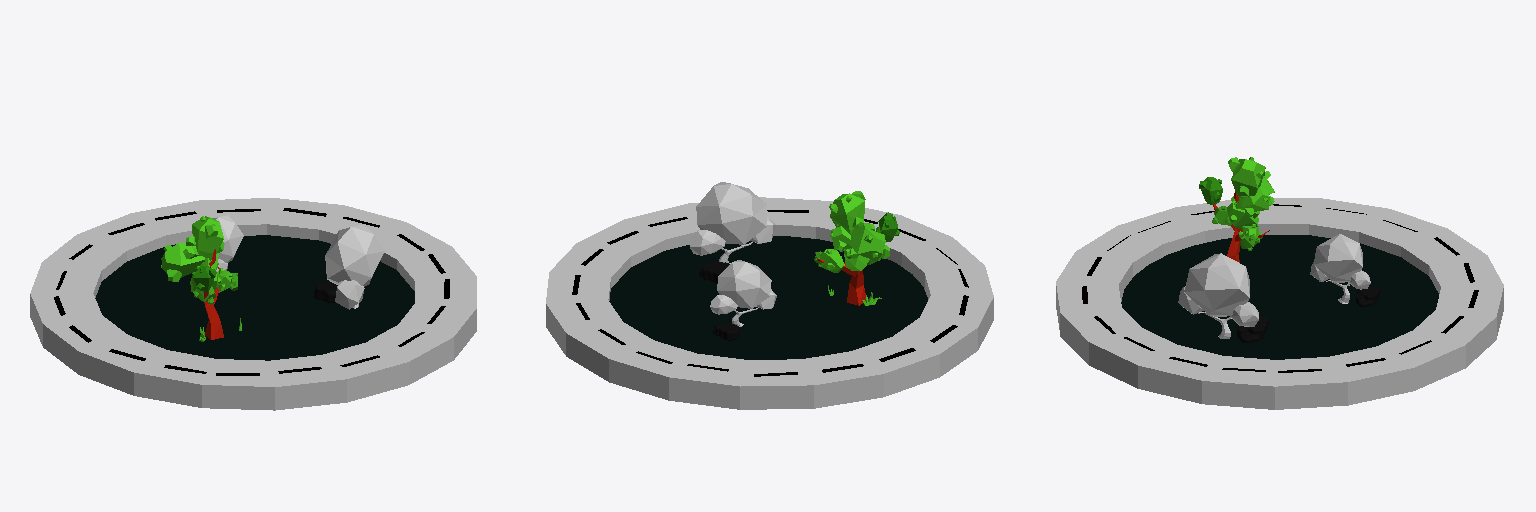
The model's file is final_track.obj.
The picture shows the model from 3 angles: view 1: azimuth 30°, elevation 25°; view 2: azimuth 150°, elevation 25°; view 3: azimuth 270°, elevation 25°; orthographic projection.
Visible parts, largest first — view 1: Cube.001_Cube.004, Cylinder, yaprak1.001_Icosphere.003, BranchesCBranchesuBranchesbBrancheseBranches.Branches0Branc.005_, BranchesCBranchesuBranchesbBrancheseBranches.Branches0Branc.004_, yaprak1_Icosphere.002, yaprak3.001_Icosphere.005, Trunk_Plane.001; view 2: Cube.001_Cube.004, Cylinder, yaprak1.001_Icosphere.003, yaprak1_Icosphere.002, BranchesCBranchesuBranchesbBrancheseBranches.Branches0Branc.004_, BranchesCBranchesuBranchesbBrancheseBranches.Branches0Branc.005_, yaprak2.001_Icosphere.004, Trunk_Plane.001; view 3: Cube.001_Cube.004, Cylinder, yaprak1.001_Icosphere.003, yaprak1_Icosphere.002, BranchesCBranchesuBranchesbBrancheseBranches.Branches0Branc.004_, BranchesCBranchesuBranchesbBrancheseBranches.Branches0Branc.002_, CavePlatform2-1.001.
Boxes of the visible parts, x1,y1,x2,y2 form: Cube.001_Cube.004: [30, 198, 476, 410]; Cylinder: [95, 235, 414, 360]; yaprak1.001_Icosphere.003: [325, 225, 384, 286]; BranchesCBranchesuBranchesbBrancheseBranches.Branches0Branc.005_: [161, 242, 204, 281]; BranchesCBranchesuBranchesbBrancheseBranches.Branches0Branc.004_: [186, 216, 224, 260]; yaprak1_Icosphere.002: [213, 215, 243, 262]; yaprak3.001_Icosphere.005: [335, 280, 364, 309]; Trunk_Plane.001: [204, 249, 223, 339]; Cube.001_Cube.004: [546, 197, 993, 409]; Cylinder: [609, 236, 927, 359]; yaprak1.001_Icosphere.003: [696, 182, 766, 244]; yaprak1_Icosphere.002: [717, 260, 771, 308]; BranchesCBranchesuBranchesbBrancheseBranches.Branches0Branc.004_: [829, 191, 865, 234]; BranchesCBranchesuBranchesbBrancheseBranches.Branches0Branc.005_: [849, 223, 889, 261]; yaprak2.001_Icosphere.004: [690, 230, 725, 255]; Trunk_Plane.001: [817, 258, 867, 305]; Cube.001_Cube.004: [1056, 198, 1503, 409]; Cylinder: [1121, 235, 1438, 359]; yaprak1.001_Icosphere.003: [1184, 253, 1249, 316]; yaprak1_Icosphere.002: [1314, 234, 1362, 282]; BranchesCBranchesuBranchesbBrancheseBranches.Branches0Branc.004_: [1228, 157, 1265, 197]; BranchesCBranchesuBranchesbBrancheseBranches.Branches0Branc.002_: [1236, 187, 1274, 216]; CavePlatform2-1.001: [1237, 316, 1268, 342].
Bounding box in the file's own units: 34.68 × 11.27 × 34.74.